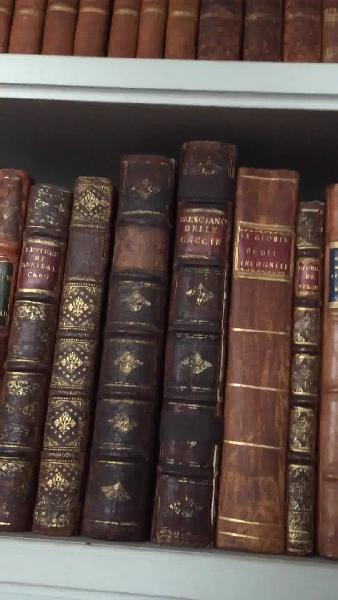Aa6-29: (6, 175, 65, 529)
Aa6-30: (26, 166, 112, 540)
Aa6-31: (77, 154, 156, 556)
Aa6-32: (149, 133, 224, 548)
Aa6-33: (219, 147, 296, 554)
Aa6-34: (291, 191, 328, 562)
